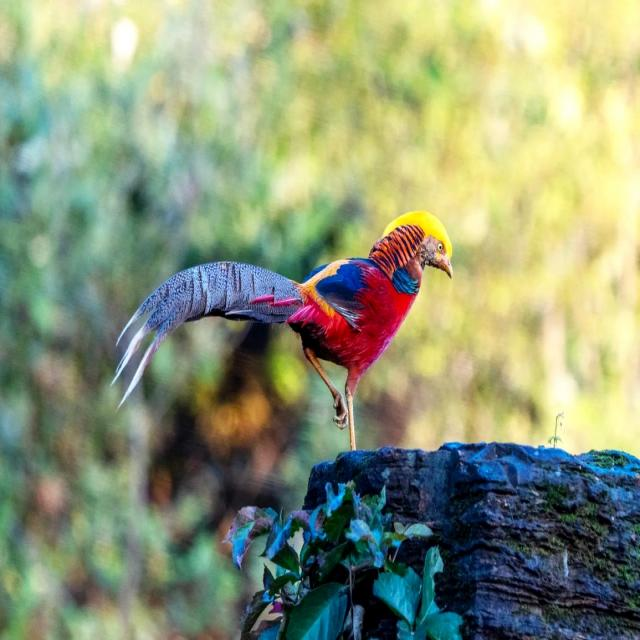Chrysolophus pictus feather: (112, 262, 304, 413)
